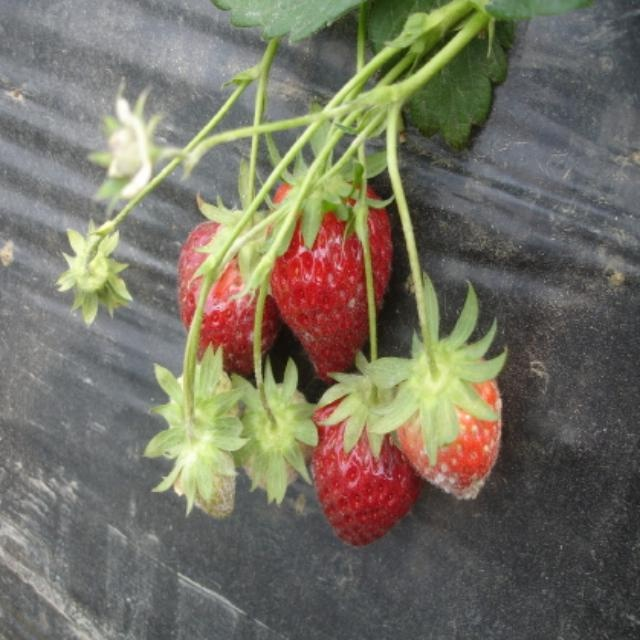Powdery Mildew Fruit: (387, 341, 502, 499)
